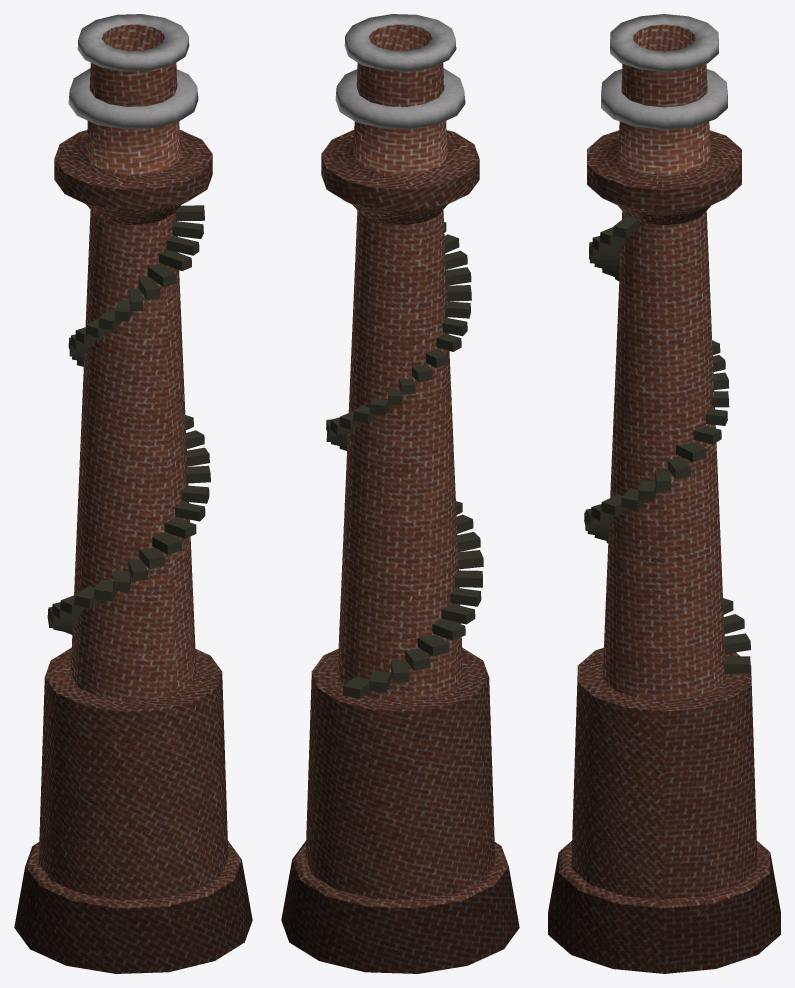
The model's file is Chimenea.fbx.
3 views of the same model, side by side, from view 1: azimuth 30°, elevation 25°; view 2: azimuth 150°, elevation 25°; view 3: azimuth 270°, elevation 25° (orthographic).
Visible parts, largest first — view 1: Chimenea; view 2: Chimenea; view 3: Chimenea.
Boxes of the visible parts, left/top/right/bottom form: Chimenea: left=14, top=14, right=252, bottom=973; Chimenea: left=281, top=14, right=519, bottom=973; Chimenea: left=548, top=14, right=780, bottom=973.
Bounding box in the file's own units: 15 × 61.39 × 14.62.
1 material, 1 textured.
